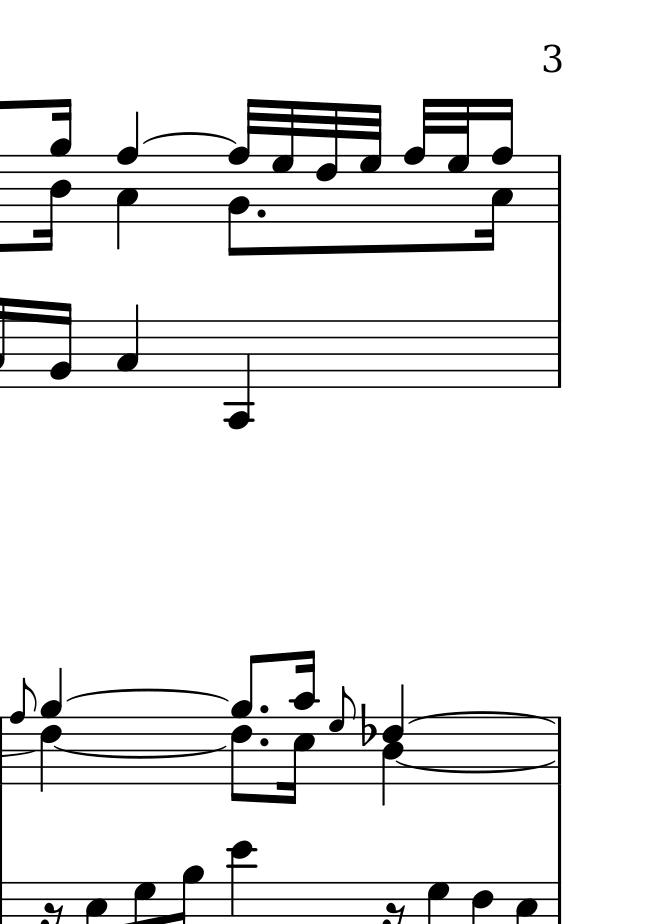16_2: (48, 300, 73, 389)
16_3_8: (475, 98, 515, 252)
16_4: (36, 155, 72, 253)
16_5_10: (279, 650, 319, 806)
3: (542, 42, 564, 74)
32_6: (315, 101, 340, 225)
32_7: (270, 99, 296, 225), (446, 96, 471, 223), (358, 100, 382, 224)
32_8: (403, 97, 434, 223)
4_-4: (224, 316, 254, 430)
4_3: (114, 302, 140, 389)
4_4_6: (380, 684, 405, 807)
Flat: (359, 702, 376, 749)
Single_barline: (550, 322, 567, 387), (552, 155, 567, 223), (552, 716, 566, 784), (1, 718, 9, 783)
Slur: (52, 746, 227, 760), (64, 688, 227, 703), (407, 709, 560, 723), (396, 761, 553, 774), (144, 131, 234, 146)
dot: (257, 734, 273, 750), (254, 205, 267, 220), (258, 704, 271, 717)
